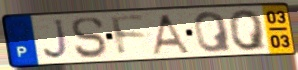A: (149, 13, 192, 57)
F: (108, 14, 149, 58)
J: (41, 17, 71, 61)
Q: (227, 8, 270, 52), (192, 10, 234, 54)
S: (70, 16, 108, 60)
